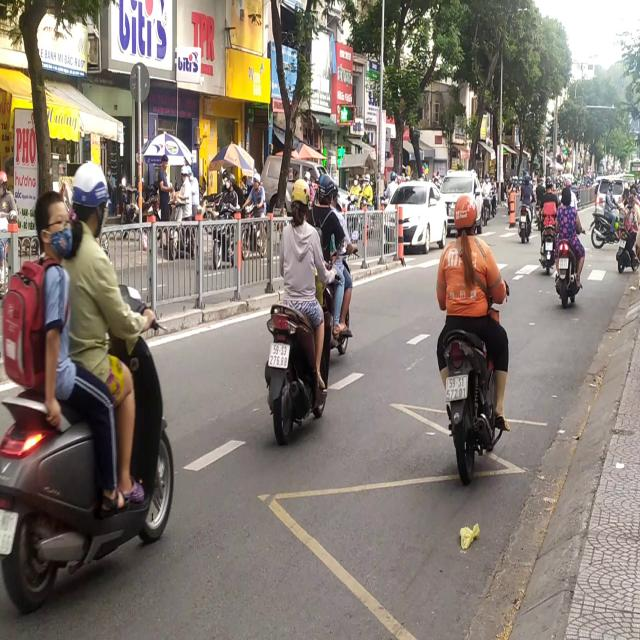bien_trang: (444, 373, 468, 402), (268, 341, 290, 371)
